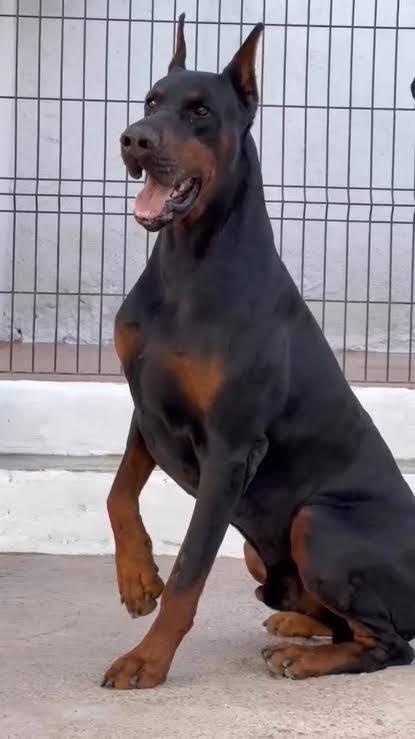adult_dog: (97, 9, 415, 694)
